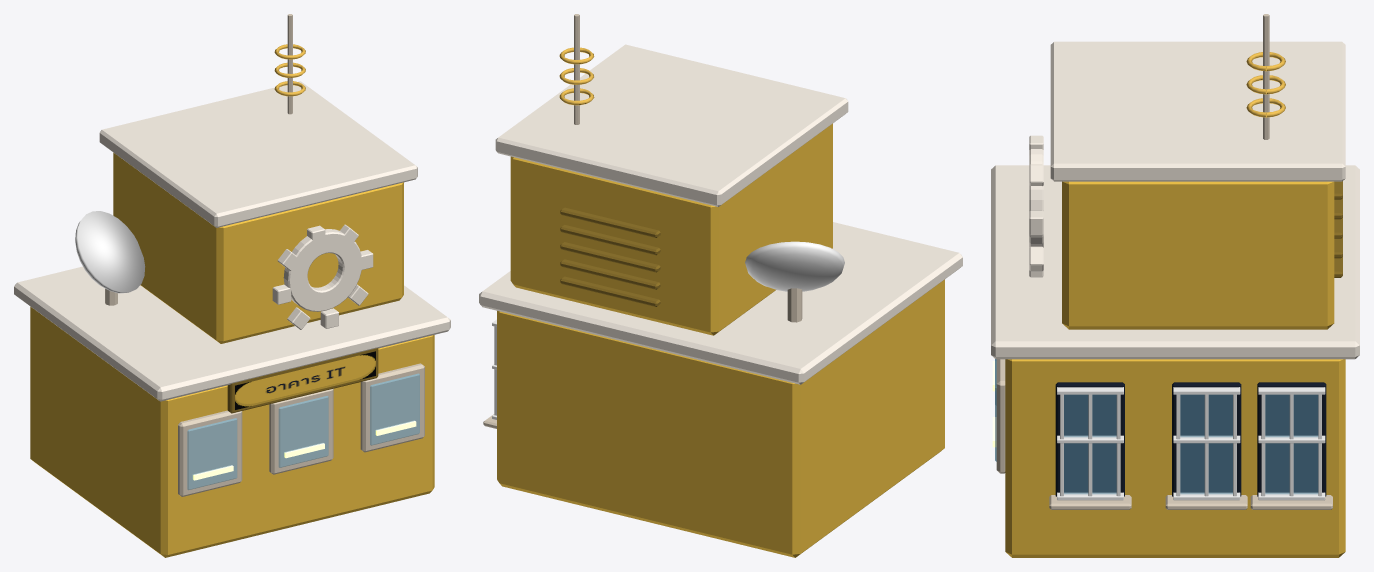
File: town-it.glb
3 renders of one model, left to right at view 1: azimuth 30°, elevation 25°; view 2: azimuth 150°, elevation 25°; view 3: azimuth 270°, elevation 25°, orthographic. The views are drawn at different scales.
Parts seen in each view (by area): view 1: BODY_IT; view 2: BODY_IT; view 3: BODY_IT.
Boxes of the visible parts, box(x1,y1,x2,y2) form: BODY_IT: box(14, 14, 450, 557); BODY_IT: box(479, 14, 962, 557); BODY_IT: box(991, 14, 1359, 557).
Bounding box in the file's own units: 7.65 × 10.1 × 6.5.
10 materials, 1 textured.
